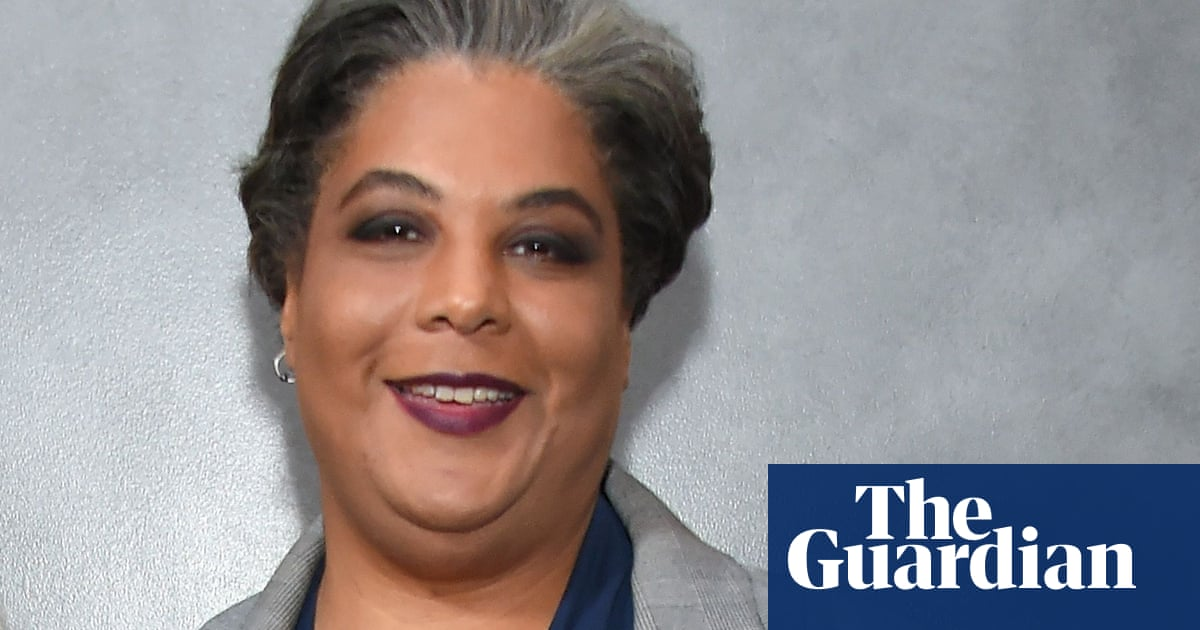bare: (279, 270, 622, 562)
